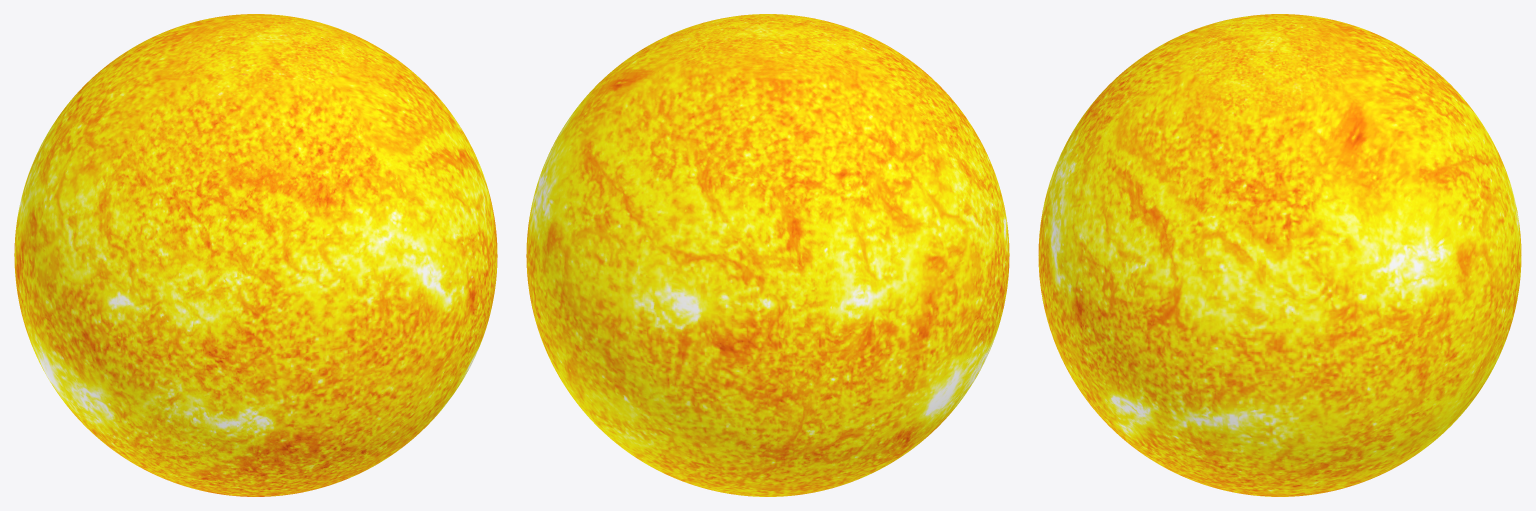
File: sun.glb
The picture shows the model from 3 angles, left to right: view 1: azimuth 30°, elevation 25°; view 2: azimuth 150°, elevation 25°; view 3: azimuth 270°, elevation 25°; orthographic projection.
Visible parts, largest first — view 1: sun_globe; view 2: sun_globe; view 3: sun_globe.
Boxes of the visible parts, left/top/right/bottom form: sun_globe: left=14, top=14, right=497, bottom=496; sun_globe: left=526, top=14, right=1009, bottom=496; sun_globe: left=1038, top=14, right=1521, bottom=496.
Bounding box in the file's own units: 2 × 2 × 2.
Materials: 1 (1 with a texture image).
